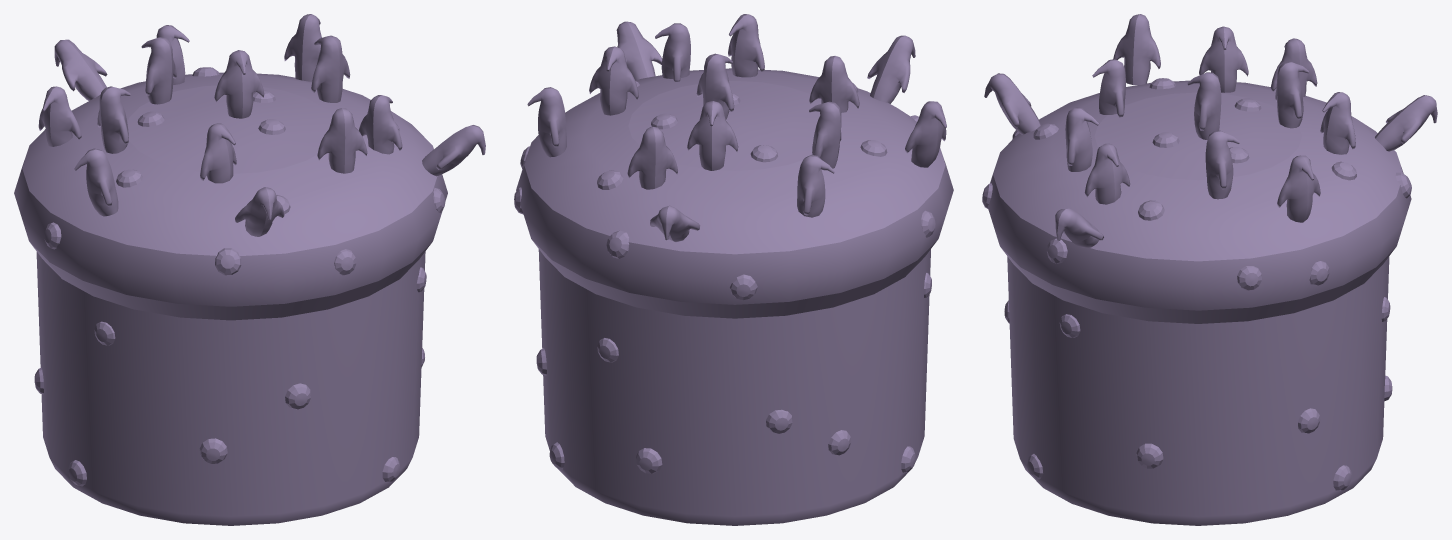
File: PROPS_GOODS_PANNETONE_MODEL.fbx
3 views of the same model, side by side, from view 1: azimuth 30°, elevation 25°; view 2: azimuth 150°, elevation 25°; view 3: azimuth 270°, elevation 25° (orthographic). The views are drawn at different scales.
Visible parts, largest first — view 1: PROPS_GOODS_PANNETONE_MODEL; view 2: PROPS_GOODS_PANNETONE_MODEL; view 3: PROPS_GOODS_PANNETONE_MODEL.
Part boxes in pixels (x1,y1,x2,y2): PROPS_GOODS_PANNETONE_MODEL: (14, 14, 485, 525); PROPS_GOODS_PANNETONE_MODEL: (514, 14, 953, 525); PROPS_GOODS_PANNETONE_MODEL: (982, 14, 1437, 525).
Bounding box in the file's own units: 15.3 × 15.29 × 16.24.
